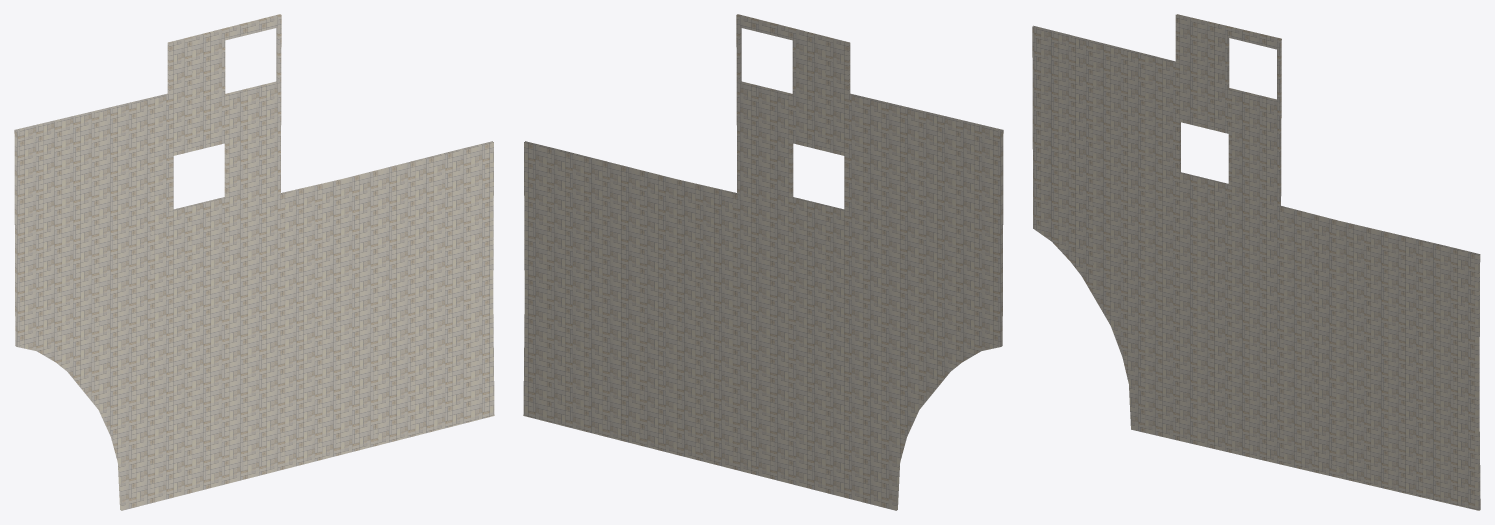
File: floor_3.obj
3 views of the same model, side by side, from view 1: azimuth 30°, elevation 25°; view 2: azimuth 150°, elevation 25°; view 3: azimuth 330°, elevation 25° (orthographic). The views are drawn at different scales.
Parts seen in each view (by area): view 1: floor_3; view 2: floor_3; view 3: floor_3.
Boxes of the visible parts, x1,y1,x2,y2 form: floor_3: (14, 14, 494, 510); floor_3: (523, 14, 1003, 510); floor_3: (1032, 14, 1480, 510).
Size of the model in its own units: 25.76 by 23.49 by 0.1.
Materials: 1 (1 with a texture image).
